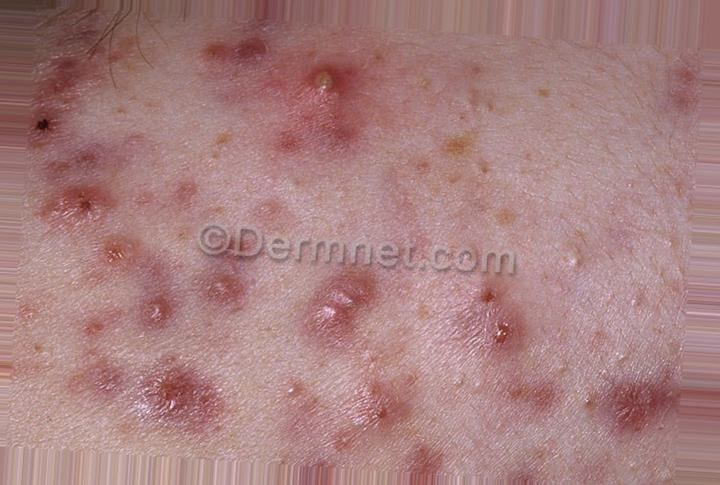Acne: (30, 34, 691, 477)
